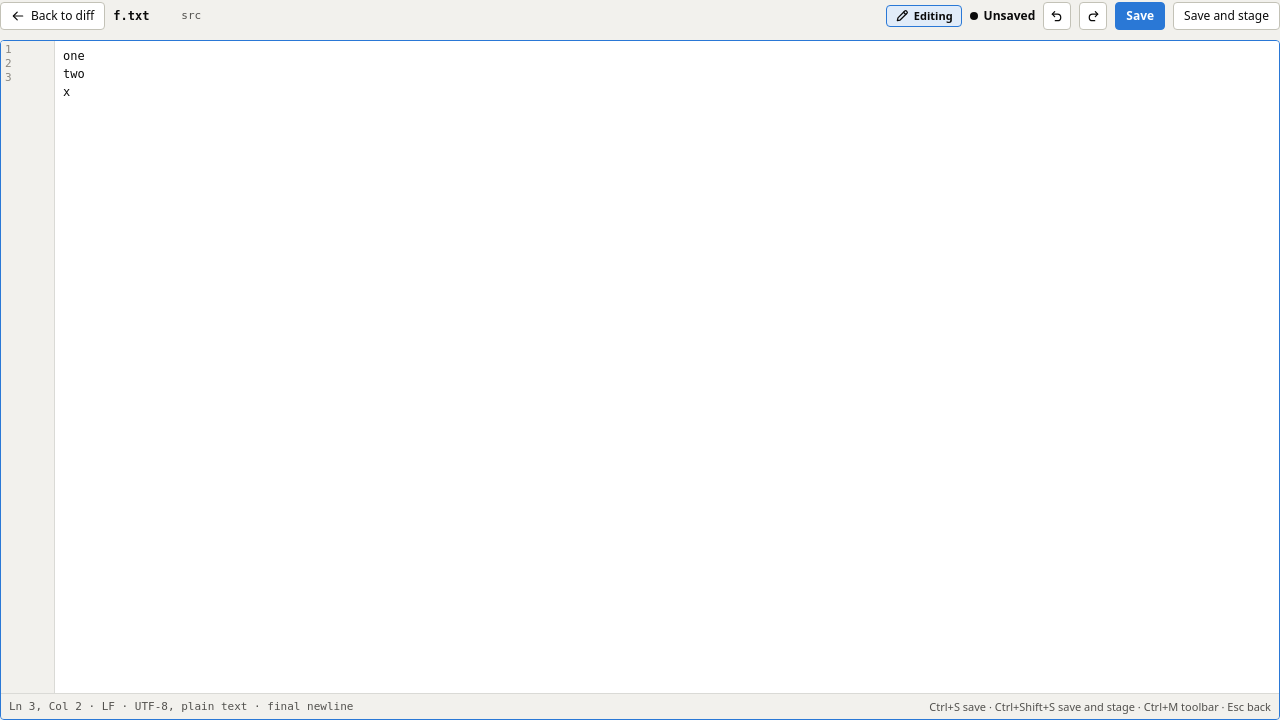
it: EditorPane leaving (FR-535, FR-538) › if Save fails the leave is aborted and the buffer is kept
Click the button "Back to diff": (53, 16) [0,2,105,30]
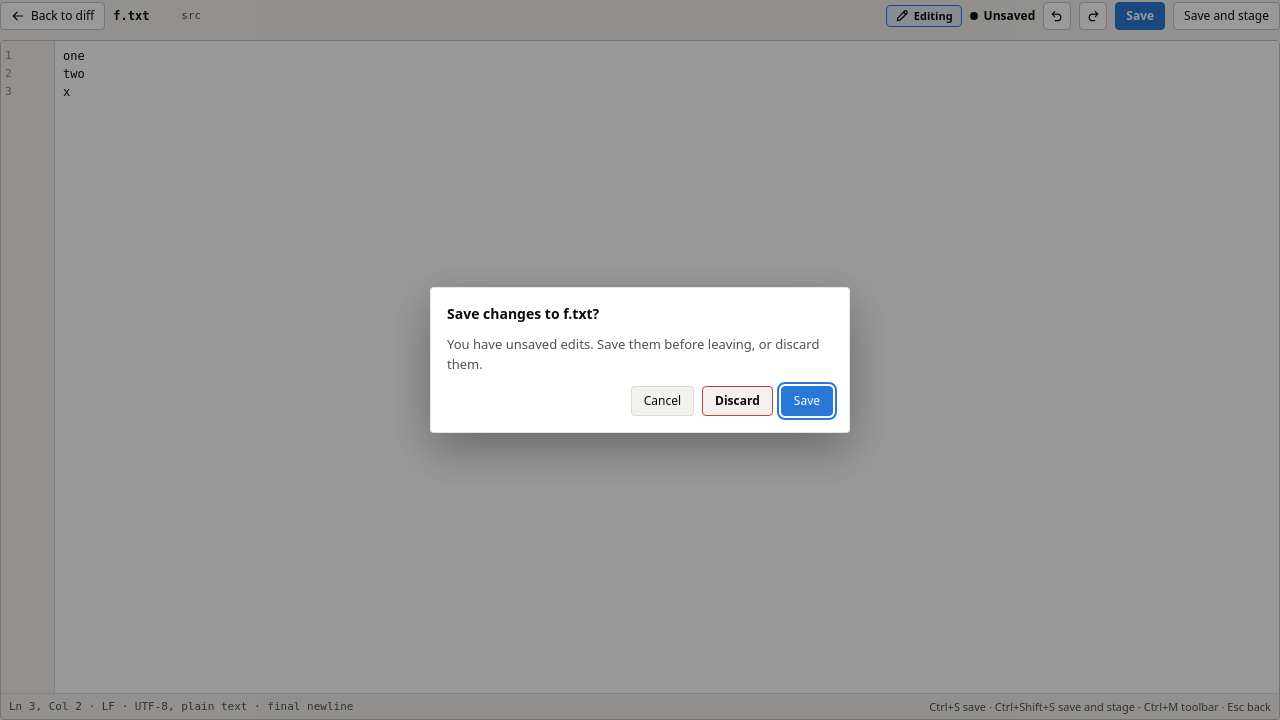
Click the button "Save": (807, 401) [781,386,833,416]
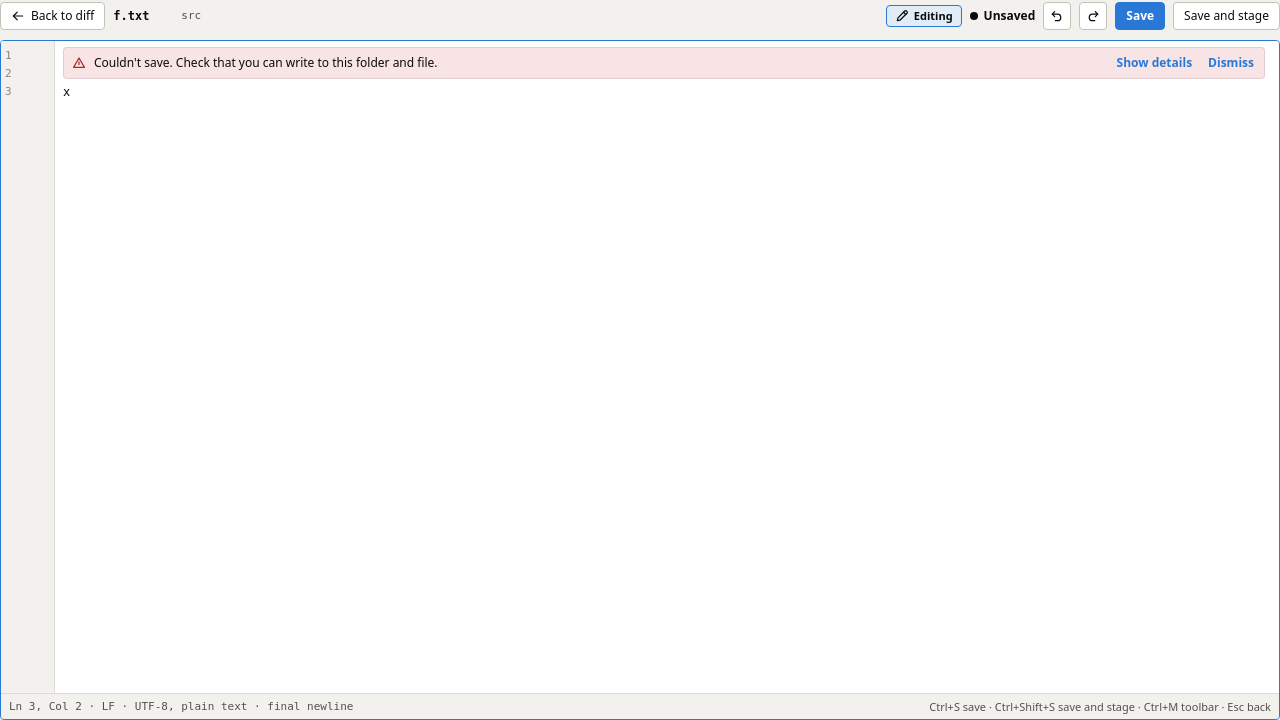
expect the text "Unsaved" is shown: met, box [970,8,1035,24]
expect the message shows "Couldn't save": met, box [94,54,438,71]
